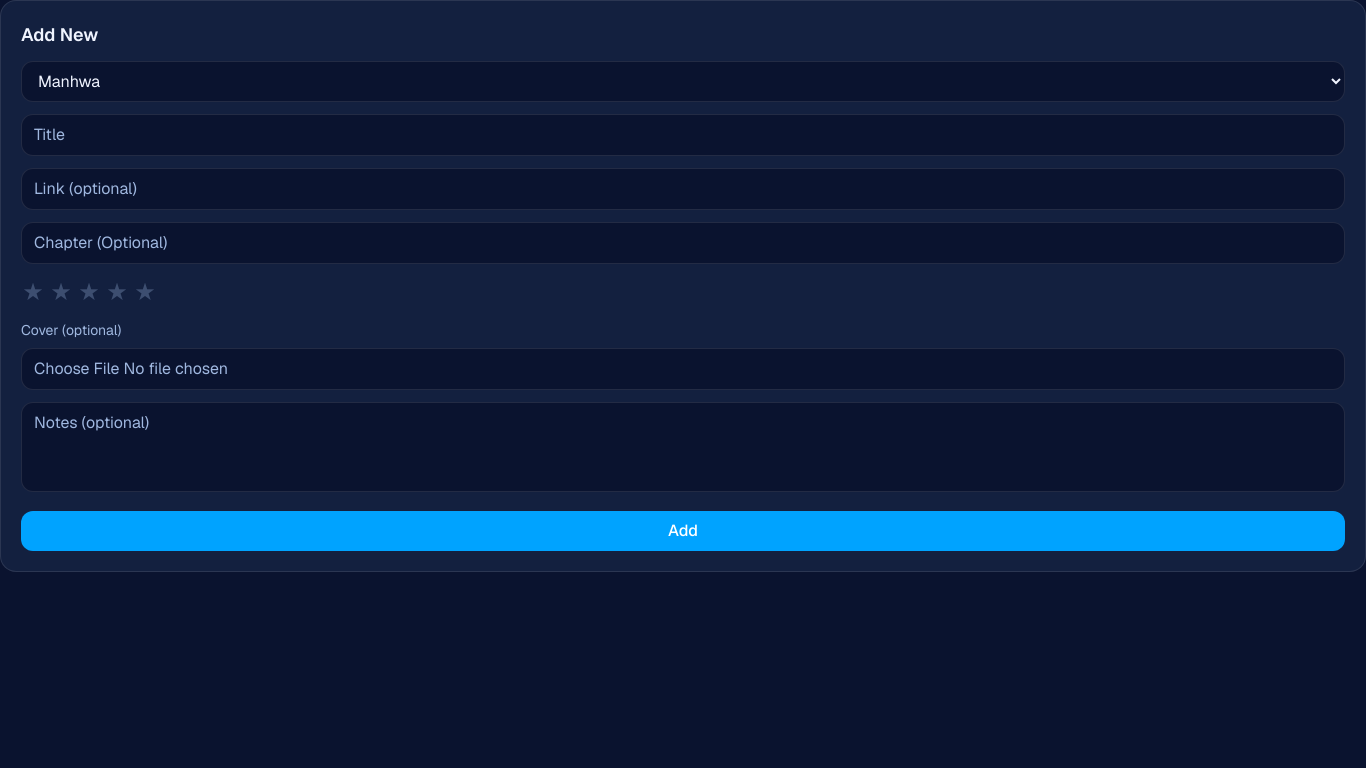
Test: AddReadingForm › shows validation error when title is empty on submit
Click the button "Add" at coordinates (683, 531), box [21,511,1345,551]
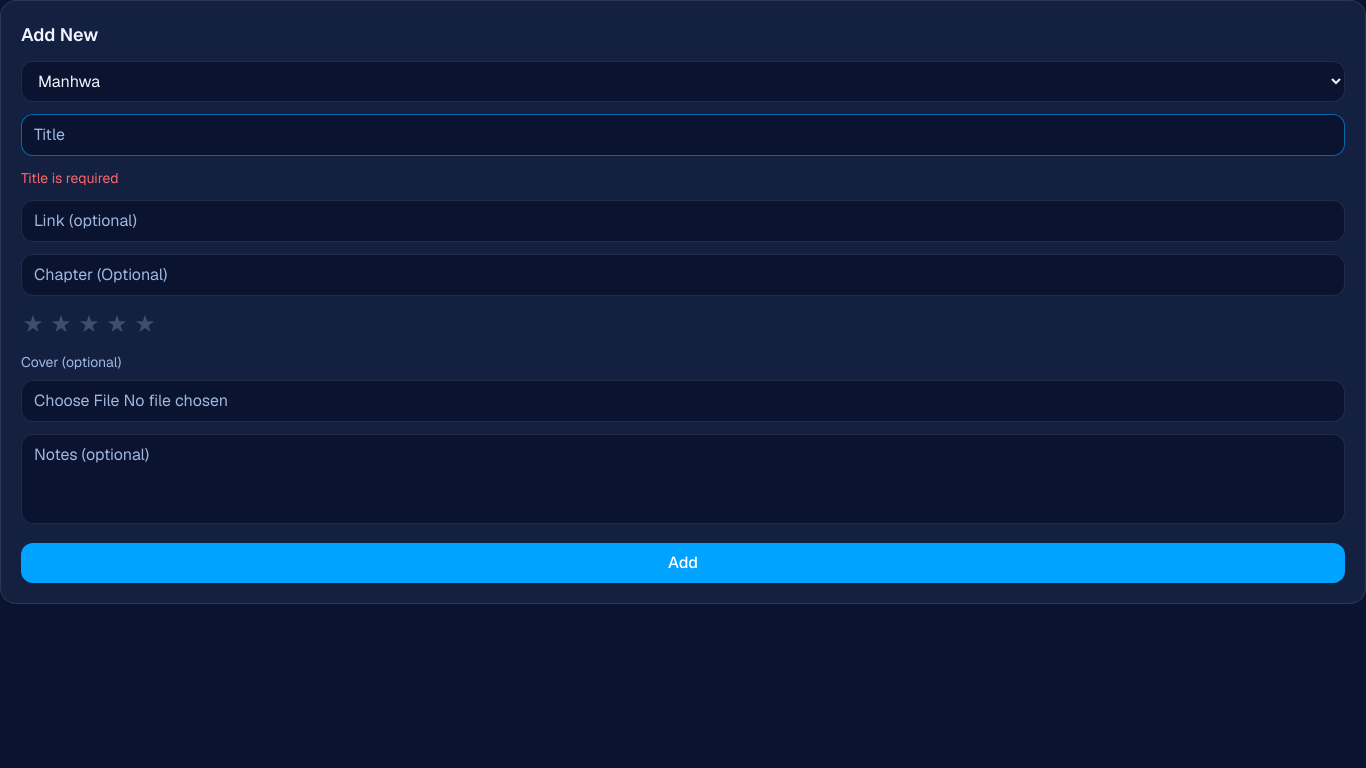
Check: the text "Title is required" is shown, box [21,169,119,187]
